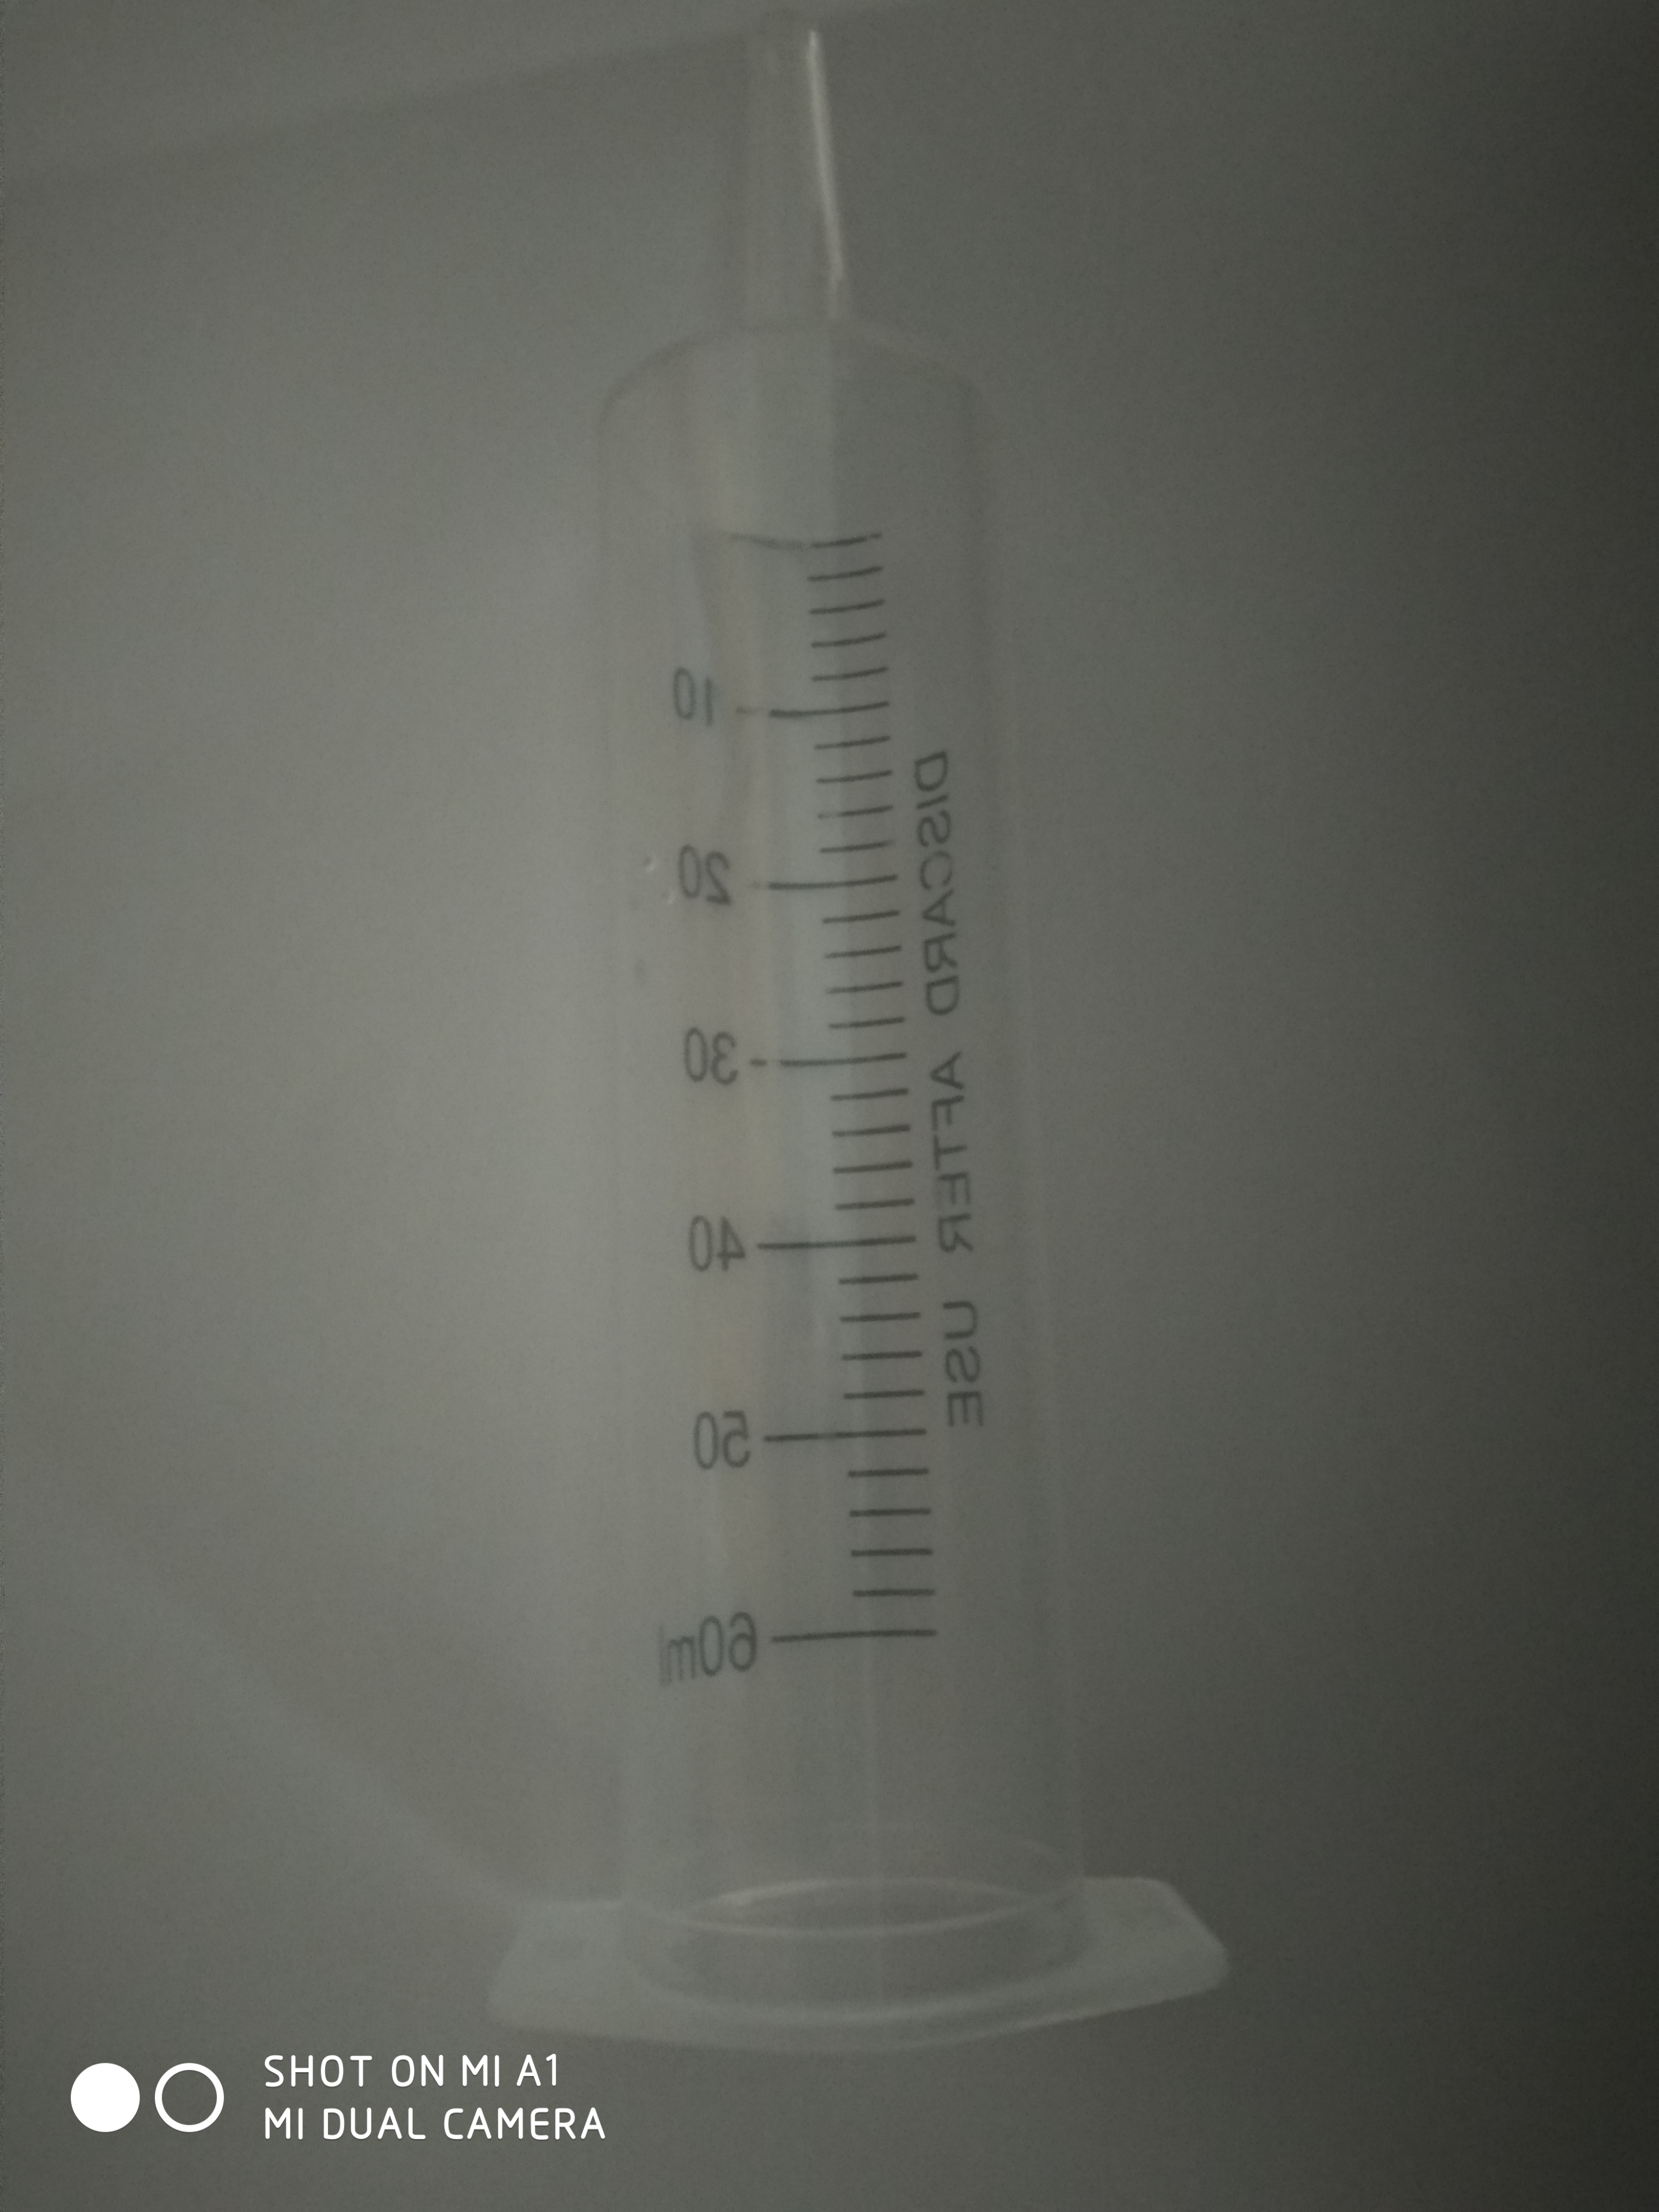syringe: (474, 30, 1230, 2055)
